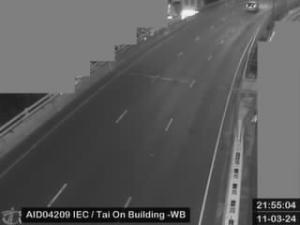vehicle: (246, 0, 258, 12)
